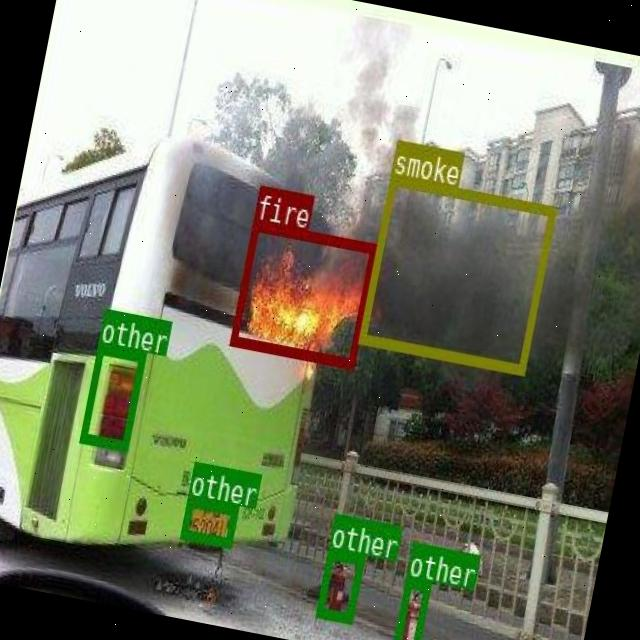fire: (230, 220, 377, 366)
smoke: (358, 172, 556, 372)
